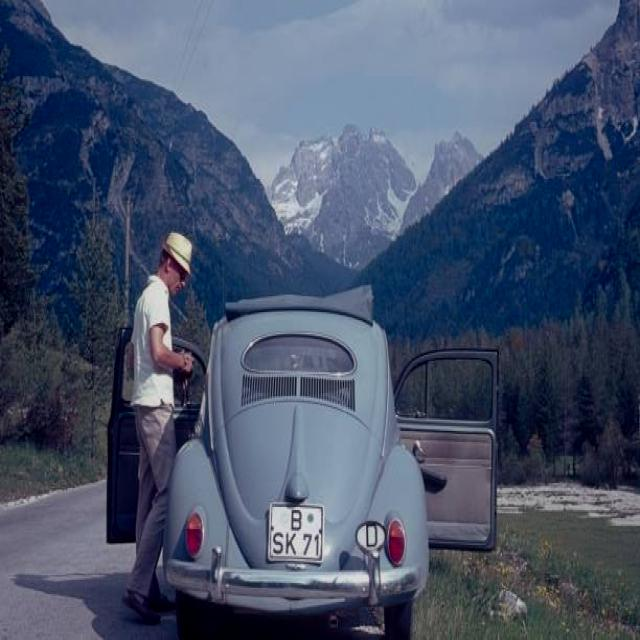car: (155, 288, 440, 631)
